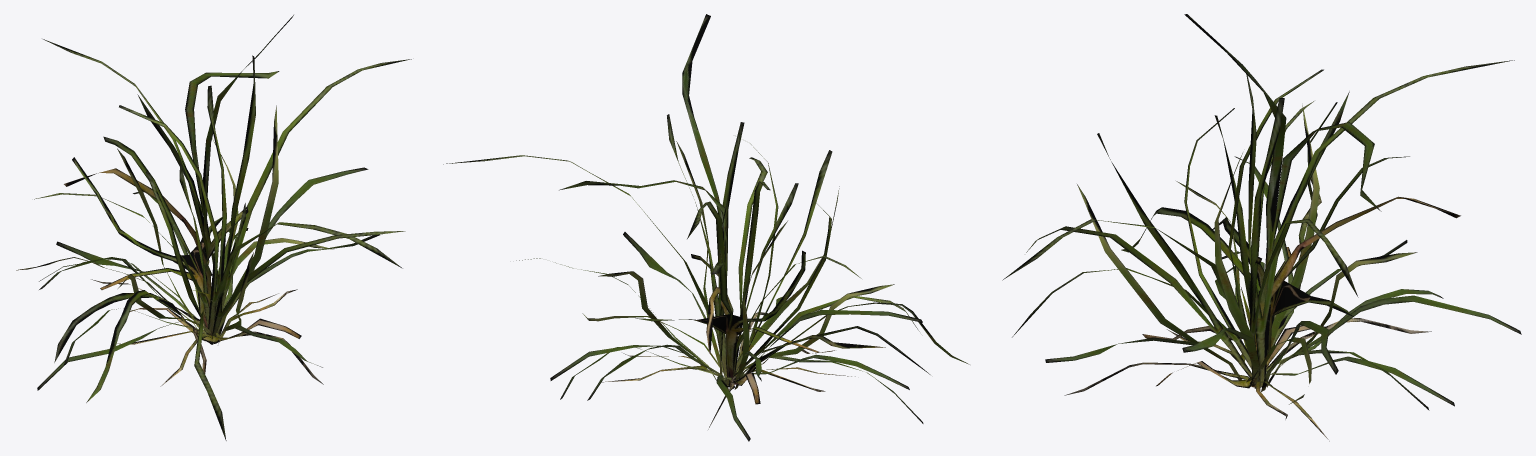
Rendered from grass_medium_01.glb.
3 renders of one model, left to right at view 1: azimuth 30°, elevation 25°; view 2: azimuth 150°, elevation 25°; view 3: azimuth 270°, elevation 25°, orthographic. The views are drawn at different scales.
Visible parts, largest first — view 1: grass_medium_01_small_a_LOD0; view 2: grass_medium_01_small_a_LOD0; view 3: grass_medium_01_small_a_LOD0.
Boxes of the visible parts, x1=… form: grass_medium_01_small_a_LOD0: x1=16, y1=15, x2=411, y2=440; grass_medium_01_small_a_LOD0: x1=443, y1=14, x2=969, y2=441; grass_medium_01_small_a_LOD0: x1=1002, y1=14, x2=1521, y2=441.
Bounding box in the file's own units: 0.1848 × 0.1404 × 0.1622.
1 material, 1 textured.
